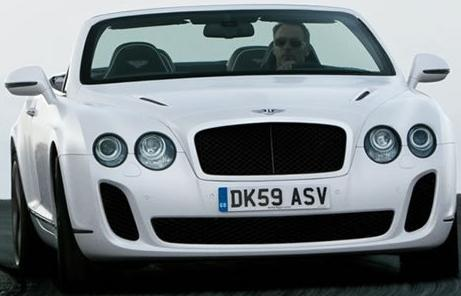front_view: (69, 107, 456, 255)
headlight: (89, 118, 182, 181)
